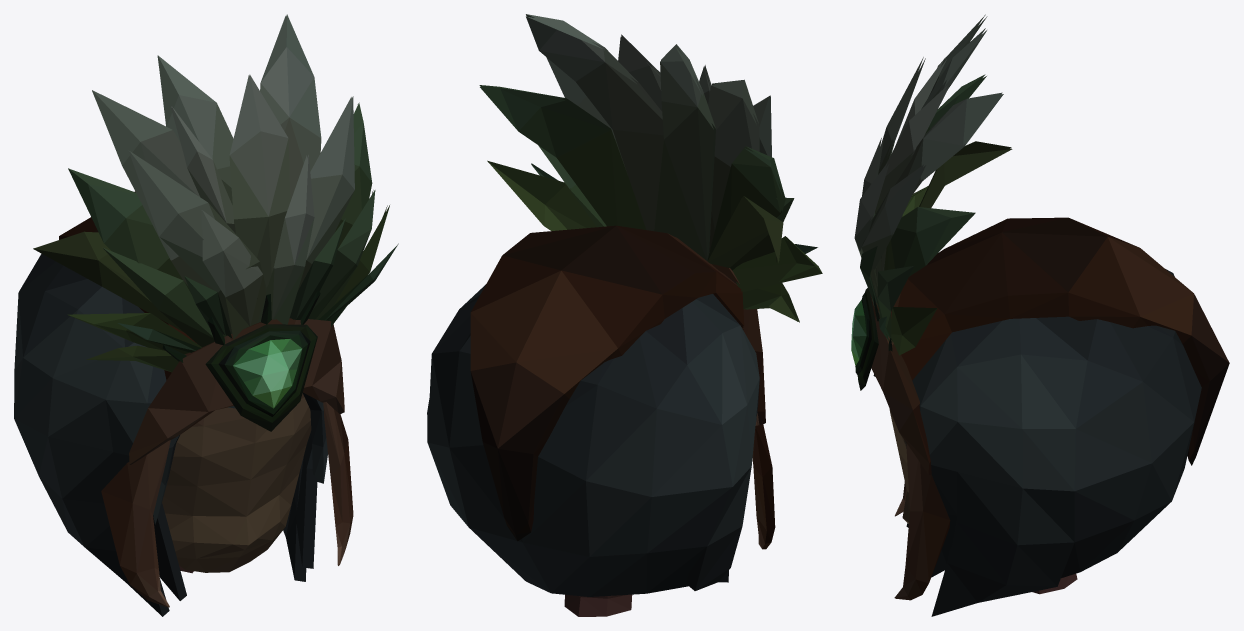
The model's file is helm_darkskin_bob_black_headress.fbx.
The picture shows the model from 3 angles, left to right: view 1: azimuth 30°, elevation 25°; view 2: azimuth 150°, elevation 25°; view 3: azimuth 270°, elevation 25°; orthographic projection. The views are drawn at different scales.
Parts seen in each view (by area): view 1: helm_darkskin_bob_black_headress; view 2: helm_darkskin_bob_black_headress; view 3: helm_darkskin_bob_black_headress.
Part boxes in pixels (bbox=[...]): helm_darkskin_bob_black_headress: bbox=[14, 14, 398, 616]; helm_darkskin_bob_black_headress: bbox=[427, 14, 822, 616]; helm_darkskin_bob_black_headress: bbox=[851, 14, 1229, 616].
Size of the model in its own units: 1.29 by 2.07 by 1.32.
